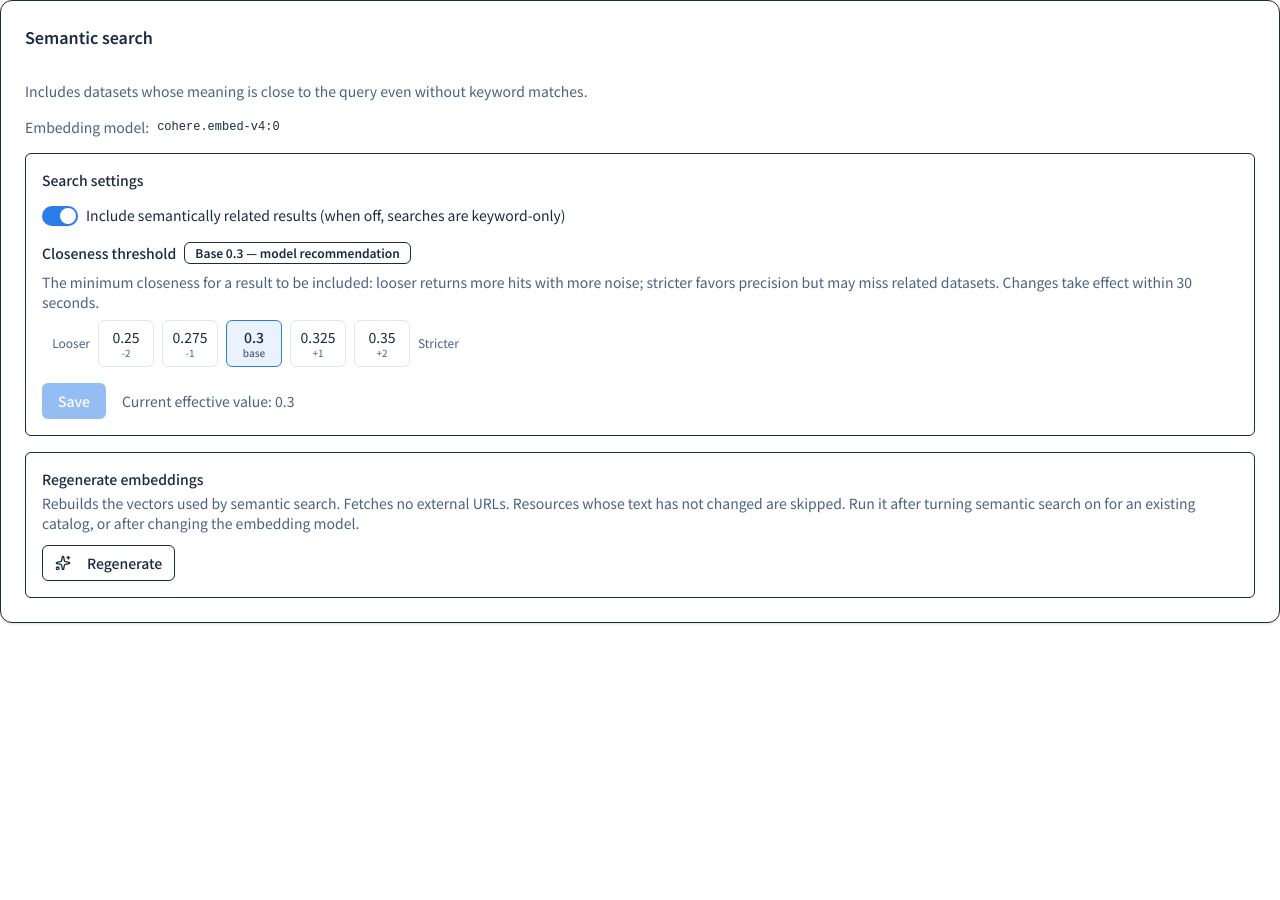
SemanticSearchCard › shows the model, and regenerates with it
Expected: the text "cohere.embed-v4:0" is shown, x1=157 y1=119 x2=280 y2=135
Click the button "Regenerate": x=109, y=562 x1=42 y1=544 x2=175 y2=580
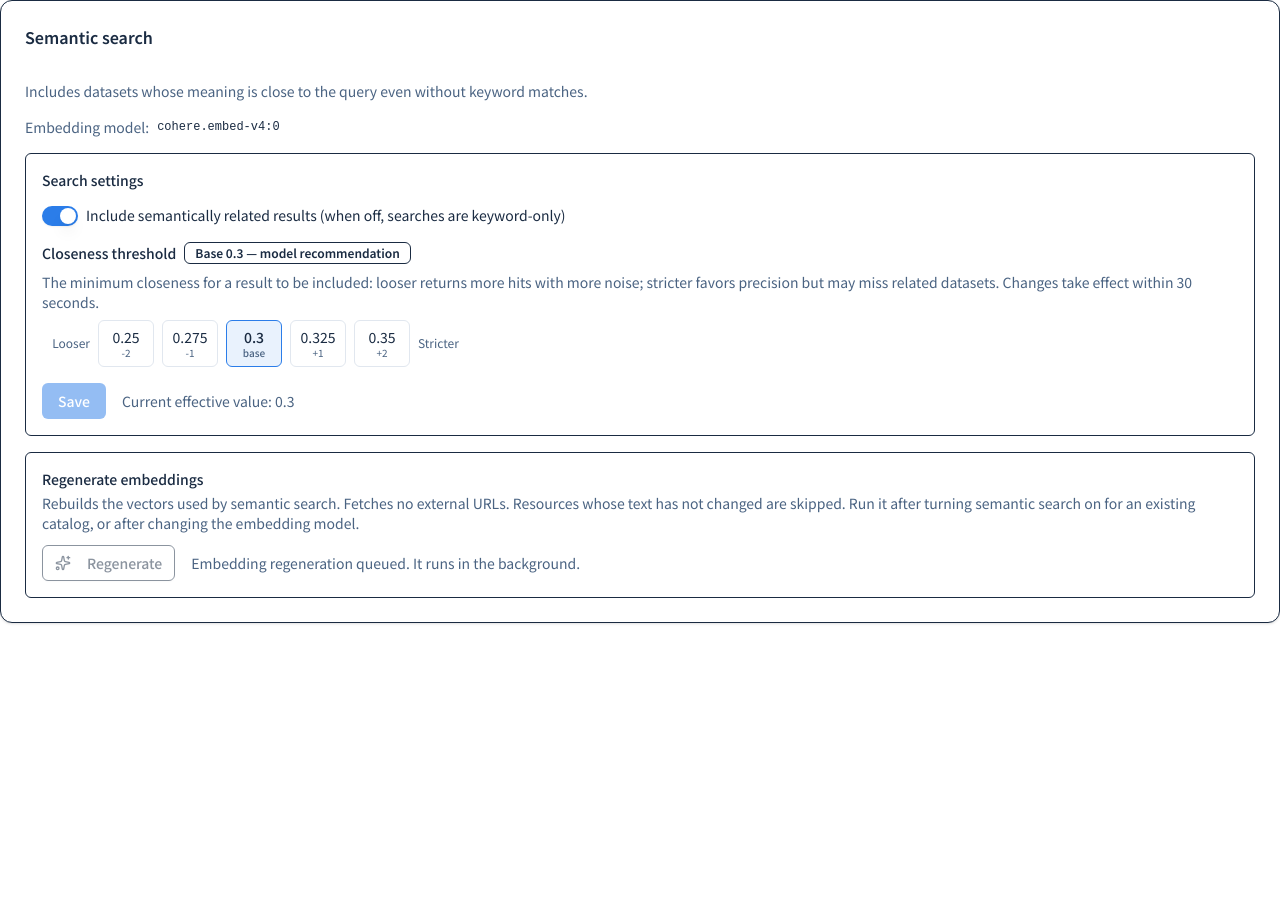
Expected: the message shows "Embedding regeneration queued", x1=191 y1=552 x2=580 y2=572
